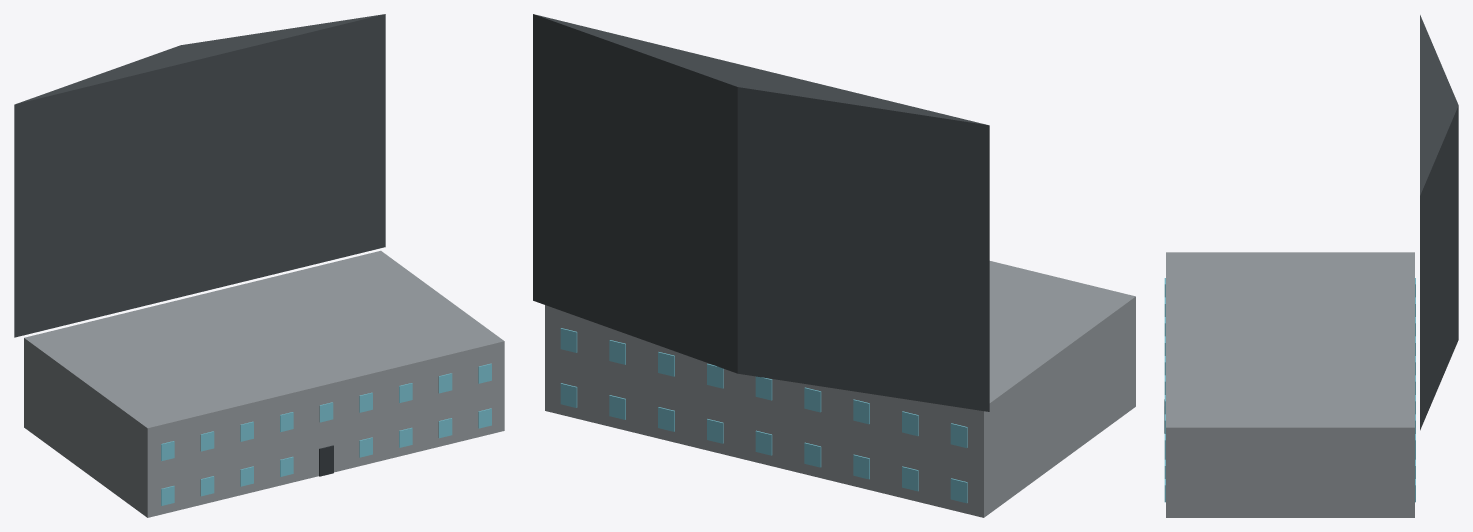
The model's file is warehouse_01.glb.
3 renders of one model, left to right at view 1: azimuth 30°, elevation 25°; view 2: azimuth 150°, elevation 25°; view 3: azimuth 270°, elevation 25°, orthographic. The views are drawn at different scales.
Parts seen in each view (by area): view 1: roof, body; view 2: roof, body; view 3: body, roof.
Boxes of the visible parts, x1,y1,x2,y2 form: roof: [14, 14, 385, 337]; body: [24, 250, 504, 517]; roof: [533, 14, 989, 411]; body: [545, 261, 1135, 517]; body: [1166, 252, 1414, 517]; roof: [1420, 15, 1458, 430].
Bounding box in the file's own units: 31.2 × 25.92 × 21.27.
